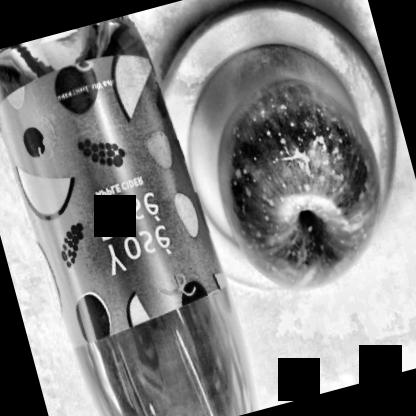yoserose: (3, 59, 216, 333)
